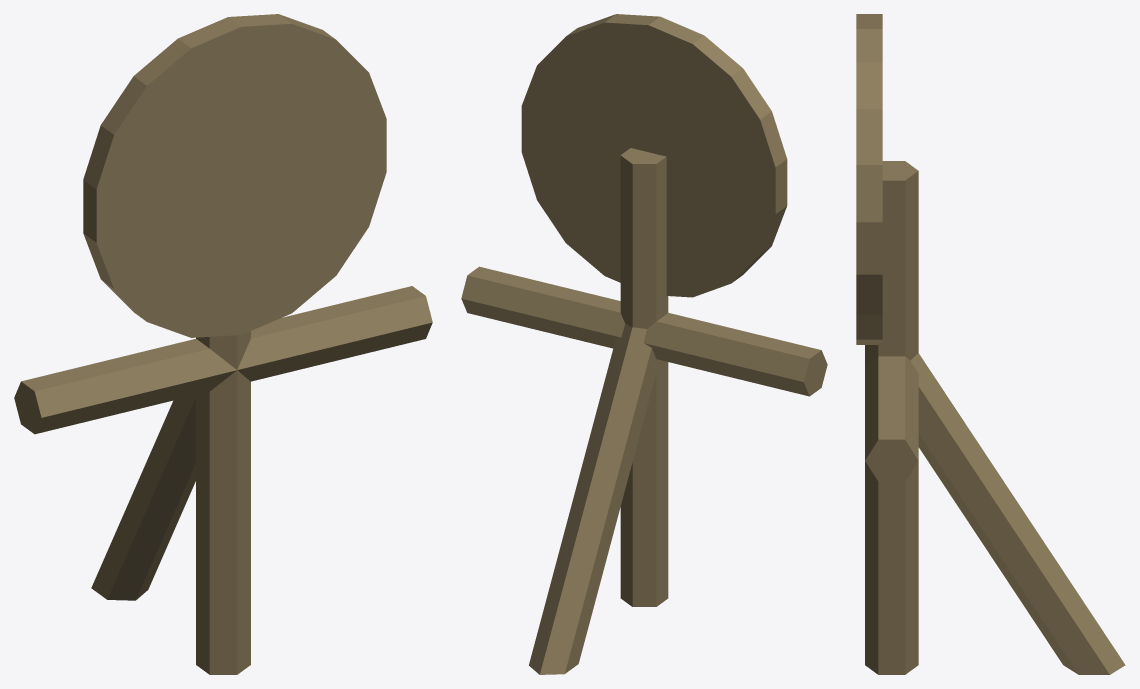
The model's file is TargetV3.fbx.
3 views of the same model, side by side, from view 1: azimuth 30°, elevation 25°; view 2: azimuth 150°, elevation 25°; view 3: azimuth 270°, elevation 25° (orthographic). The views are drawn at different scales.
Parts seen in each view (by area): view 1: Cylinder, Cylinder.001, Cylinder.003, Cylinder.002; view 2: Cylinder, Cylinder.003, Cylinder.002, Cylinder.001; view 3: Cylinder.003, Cylinder.002, Cylinder, Cylinder.001.
Part boxes in pixels (x1=…): Cylinder: x1=83, y1=14, x2=386, y2=337; Cylinder.001: x1=14, y1=286, x2=432, y2=434; Cylinder.003: x1=196, y1=331, x2=250, y2=674; Cylinder.002: x1=91, y1=395, x2=196, y2=600; Cylinder: x1=521, y1=14, x2=787, y2=297; Cylinder.003: x1=620, y1=148, x2=668, y2=606; Cylinder.002: x1=529, y1=324, x2=659, y2=674; Cylinder.001: x1=461, y1=266, x2=827, y2=396; Cylinder.003: x1=865, y1=161, x2=918, y2=674; Cylinder.002: x1=910, y1=353, x2=1125, y2=674; Cylinder: x1=856, y1=14, x2=882, y2=344; Cylinder.001: x1=865, y1=356, x2=918, y2=481.
Bounding box in the file's own units: 200 × 318 × 122.
